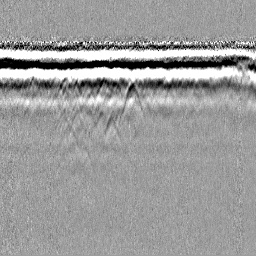cavity: (118, 80, 145, 124)
